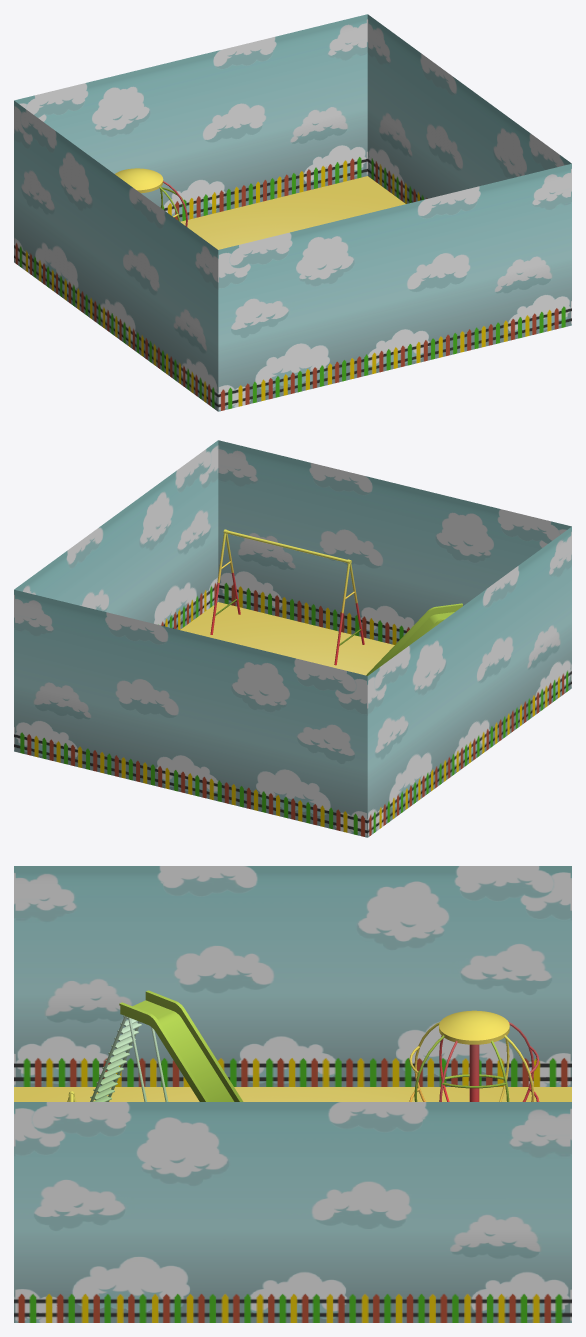
File: GameRoom.fbx
The picture shows the model from 3 angles, top to bottom: view 1: azimuth 30°, elevation 25°; view 2: azimuth 150°, elevation 25°; view 3: azimuth 270°, elevation 25°; orthographic projection. The views are drawn at different scales.
Parts seen in each view (by area): view 1: GameRoom, Sphere; view 2: GameRoom, Swing, Slider; view 3: GameRoom, Slider, Sphere.
Boxes of the visible parts, bbox=[...] form: GameRoom: bbox=[14, 14, 571, 411]; Sphere: bbox=[115, 168, 187, 226]; GameRoom: bbox=[14, 440, 571, 837]; Swing: bbox=[210, 529, 364, 665]; Slider: bbox=[366, 603, 462, 675]; GameRoom: bbox=[14, 866, 571, 1322]; Slider: bbox=[90, 990, 243, 1101]; Sphere: bbox=[409, 1010, 539, 1101].
Size of the model in its own units: 6395 by 2815 by 6395.
